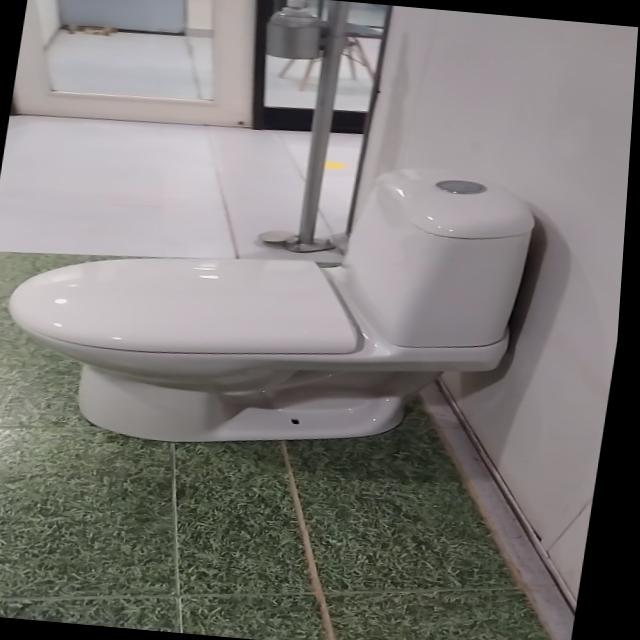toilet: (0, 132, 548, 470)
